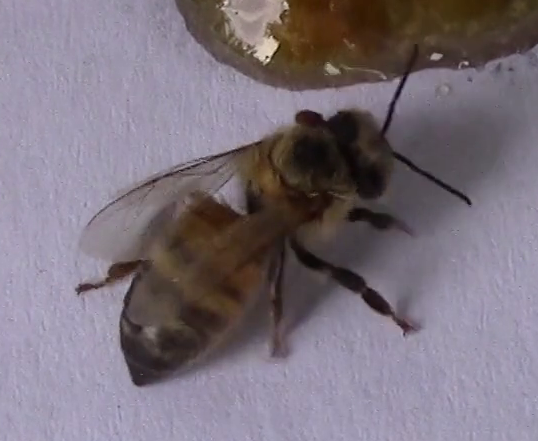Varroa destructor: (291, 105, 332, 129)
